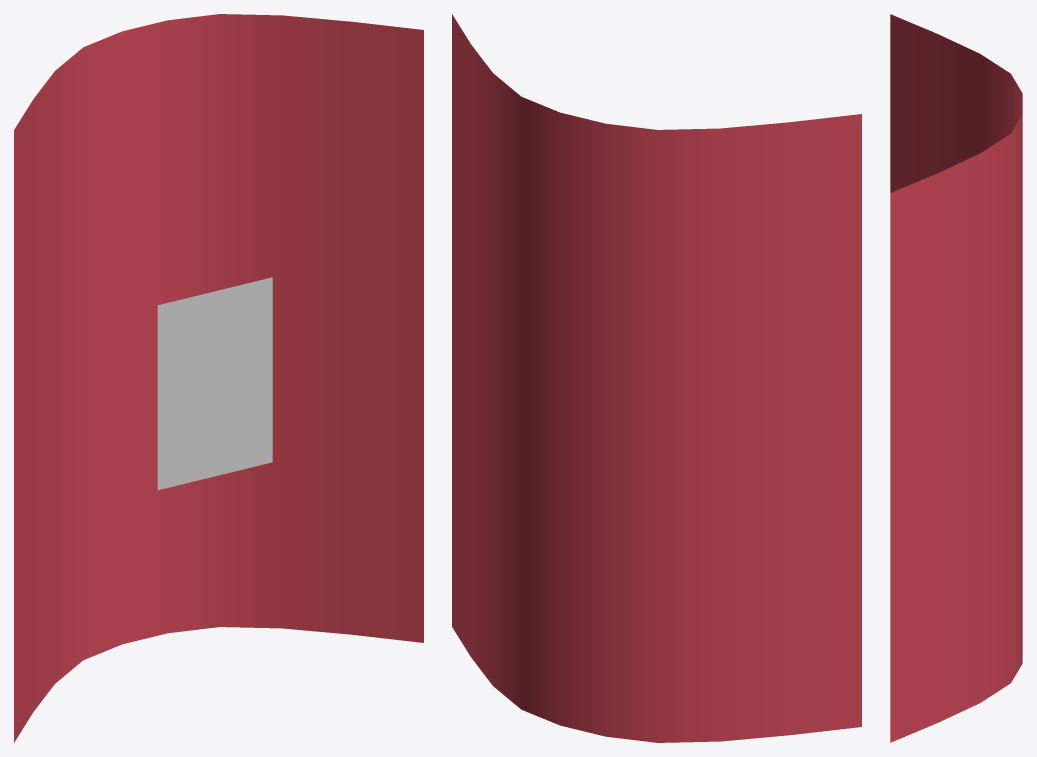
3 renders of one model, left to right at view 1: azimuth 30°, elevation 25°; view 2: azimuth 150°, elevation 25°; view 3: azimuth 270°, elevation 25°, orthographic. The views are drawn at different scales.
Visible parts, largest first — view 1: Card.001; view 2: Card.001; view 3: Card.001.
Part boxes in pixels (box(x1,y1,x2,y2)): Card.001: box(14, 14, 423, 742); Card.001: box(452, 14, 861, 742); Card.001: box(890, 14, 1022, 742).
Bounding box in the file's own units: 18.18 × 25.99 × 5.68.
